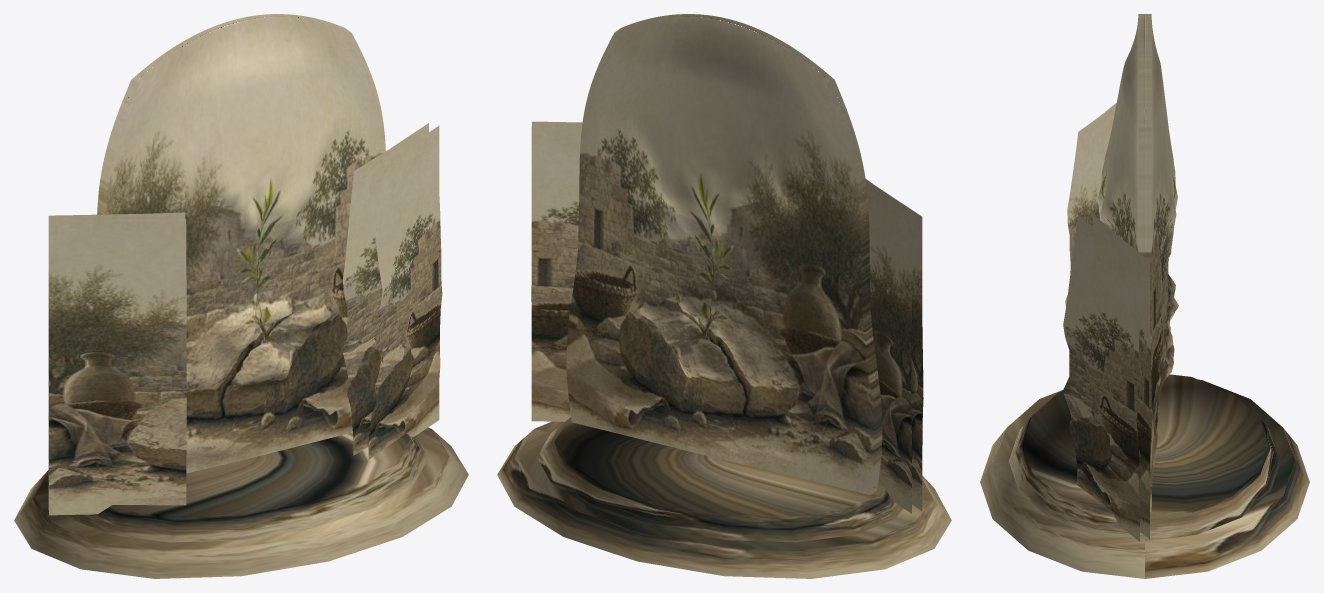
The model's file is new-every-morning-30.glb.
3 views of the same model, side by side, from view 1: azimuth 30°, elevation 25°; view 2: azimuth 150°, elevation 25°; view 3: azimuth 270°, elevation 25° (orthographic). The views are drawn at different scales.
Parts seen in each view (by area): view 1: PaintingSculptureMonument; view 2: PaintingSculptureMonument; view 3: PaintingSculptureMonument.
Part boxes in pixels (left/top/right/bottom): PaintingSculptureMonument: left=14, top=14, right=468, bottom=578; PaintingSculptureMonument: left=497, top=14, right=951, bottom=578; PaintingSculptureMonument: left=980, top=14, right=1309, bottom=578.
Bounding box in the file's own units: 2.76 × 2.99 × 1.99.
Materials: 1 (1 with a texture image).
